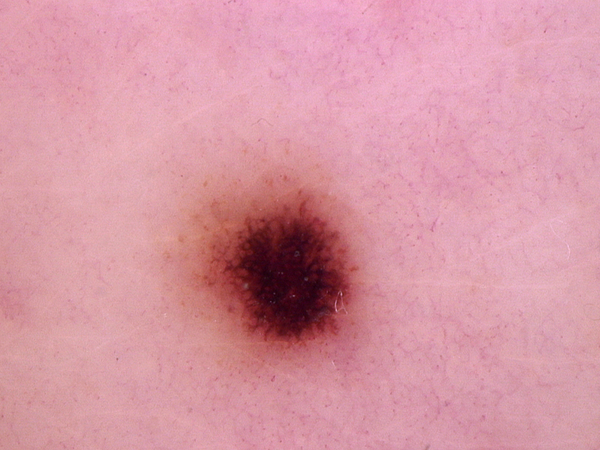Detected Lesion: (191, 179, 373, 371)
